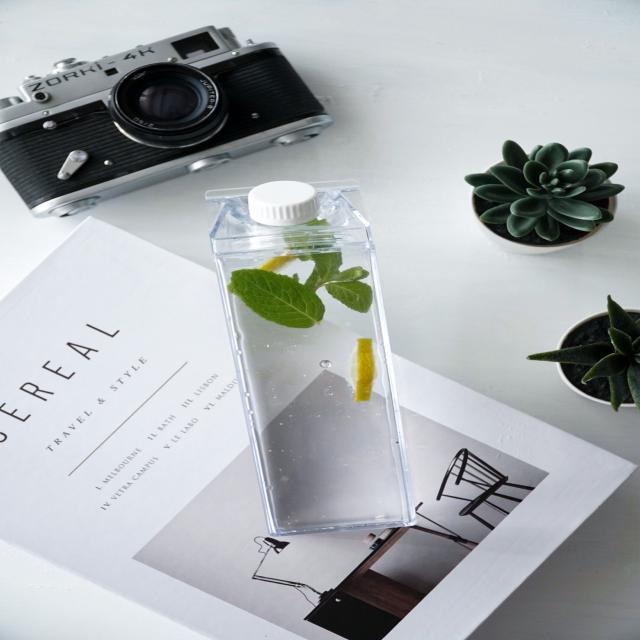Bottle: (207, 181, 415, 535)
